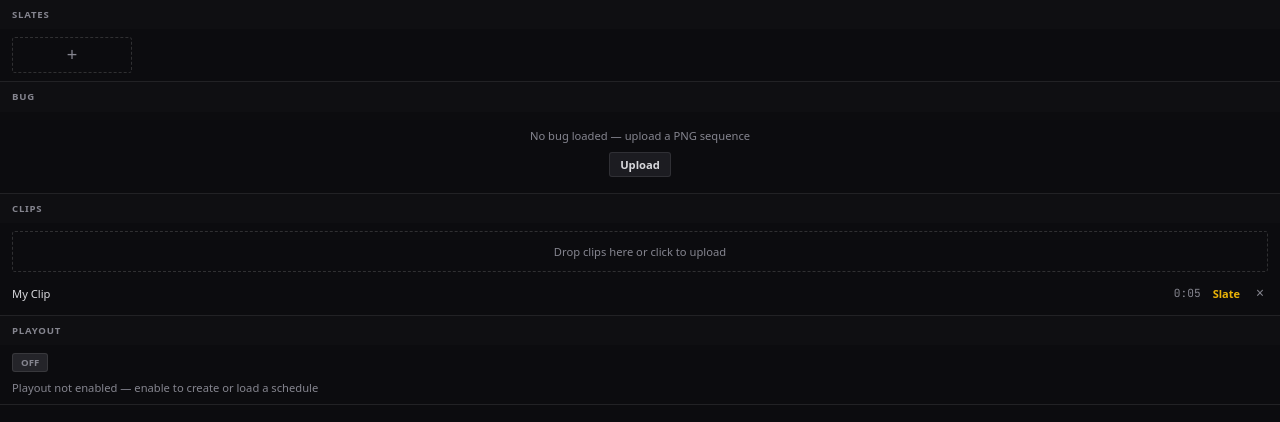
Test: OAOperationsDashboard › persists slates to localStorage when a slate is added via makeSlate
Expected: the text "My Clip" is shown, top-left (12, 286), bottom-right (50, 301)
# Click the Slate button on the clip row
Click the button "Slate": (1226, 293) top-left (1209, 284), bottom-right (1244, 303)
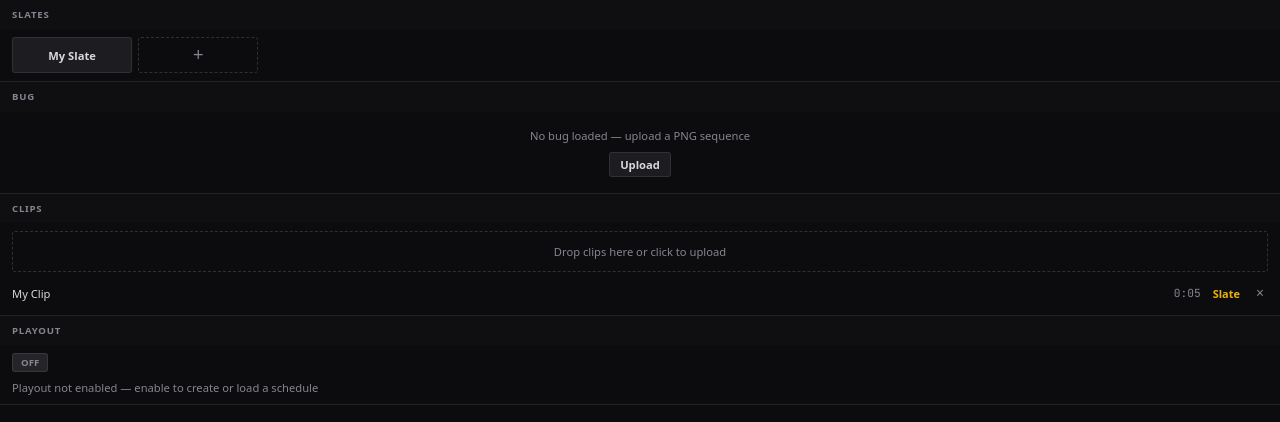
Expected: the text "My Slate" is shown, top-left (48, 48), bottom-right (96, 63)
